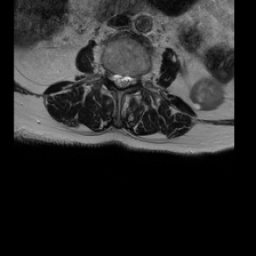CCS_stenosis: (118, 66, 125, 95)
LFS_normal: (131, 68, 139, 89)
LLS_normal: (125, 66, 131, 91)
RFS_normal: (105, 62, 111, 84)
RLS_normal: (111, 65, 118, 89)
